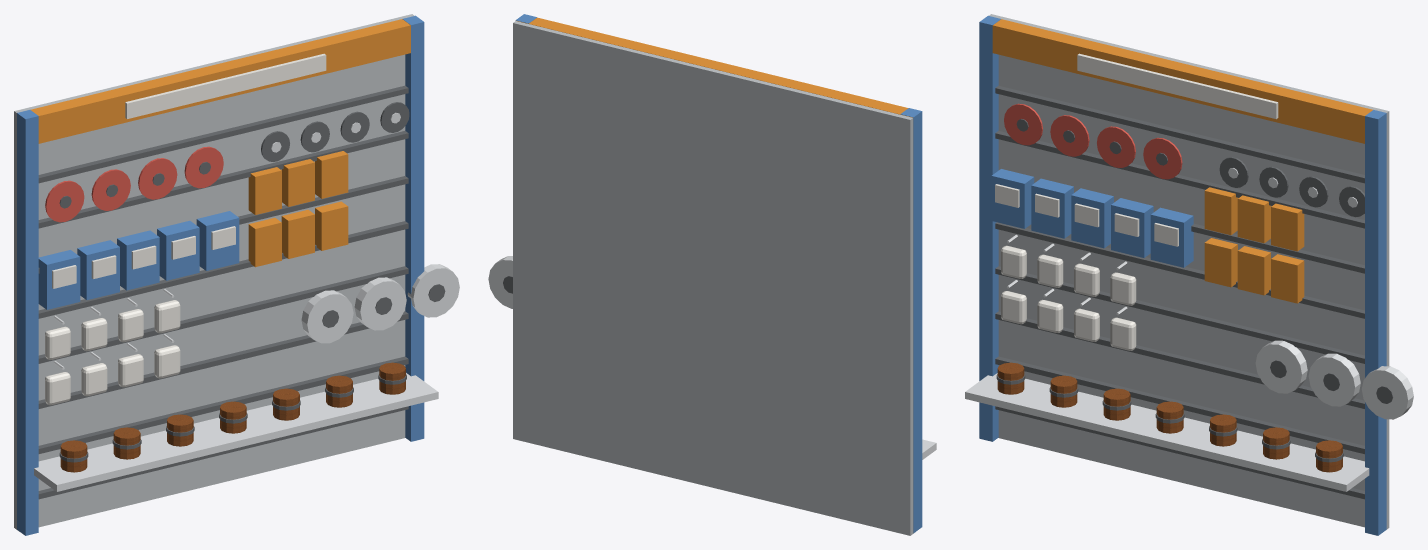
The model's file is tool-hire-depot-and-plant-yard-tool-hire-depot-and-pla-cdaf6bb0__35301.glb.
3 views of the same model, side by side, from view 1: azimuth 30°, elevation 25°; view 2: azimuth 150°, elevation 25°; view 3: azimuth 330°, elevation 25° (orthographic).
Visible parts, largest first — view 1: tool-hire-depot-and-plant-yard-consumables-wall-rack; view 2: tool-hire-depot-and-plant-yard-consumables-wall-rack; view 3: tool-hire-depot-and-plant-yard-consumables-wall-rack.
Boxes of the visible parts, <box> form: tool-hire-depot-and-plant-yard-consumables-wall-rack: <box>14,14,459,535</box>; tool-hire-depot-and-plant-yard-consumables-wall-rack: <box>488,14,936,535</box>; tool-hire-depot-and-plant-yard-consumables-wall-rack: <box>965,14,1413,535</box>.
Bounding box in the file's own units: 2.6 × 2.4 × 0.3601.
8 materials, 1 textured.
